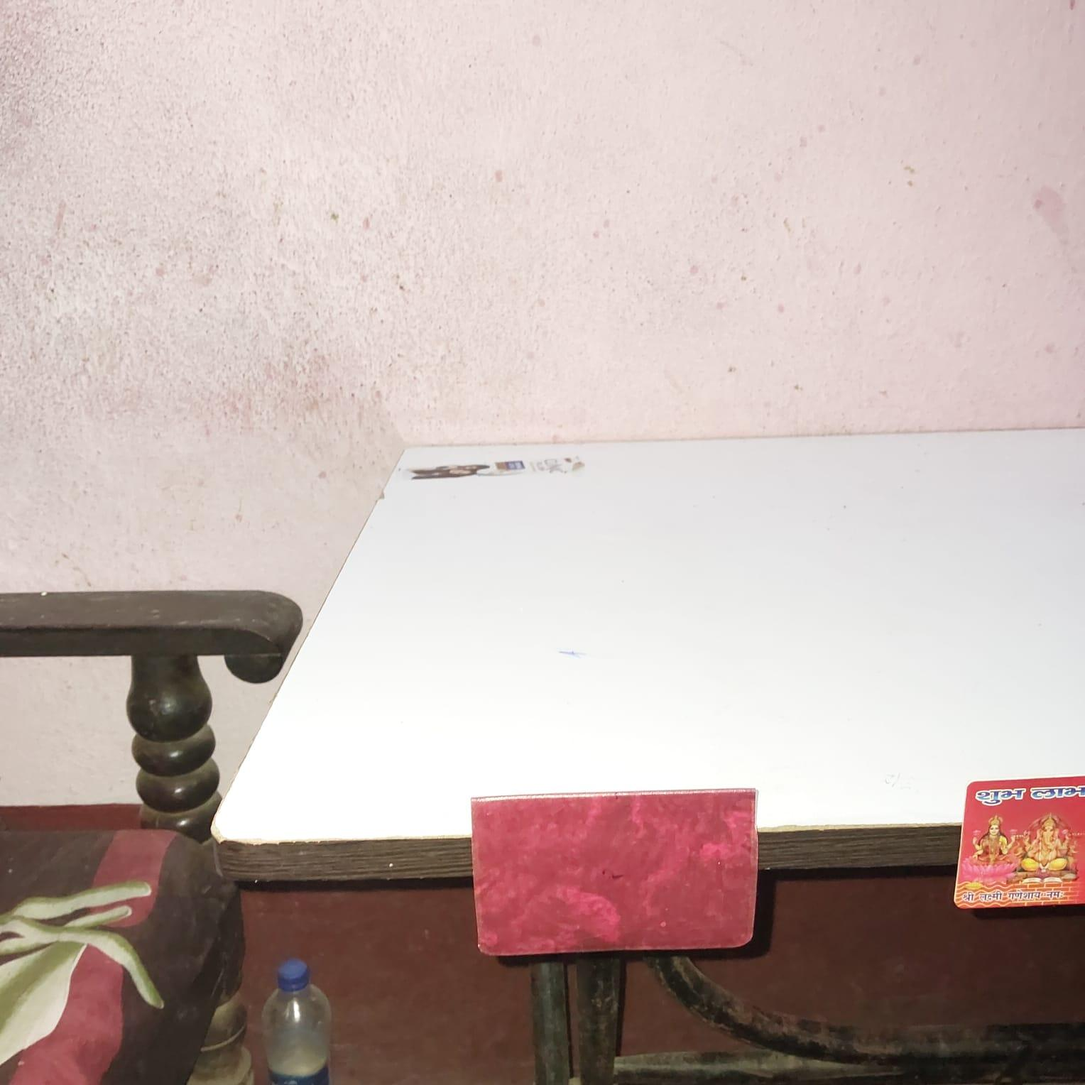blessing_card: (957, 781, 1084, 912)
wallet: (466, 787, 760, 954)
